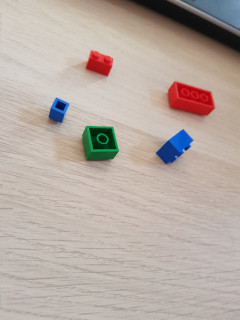1x1 blue: (48, 97, 69, 123)
1x2 red: (87, 50, 113, 78)
2x2 blue: (156, 128, 194, 165)
2x2 green: (82, 126, 119, 162)
2x4 red: (168, 81, 215, 116)
